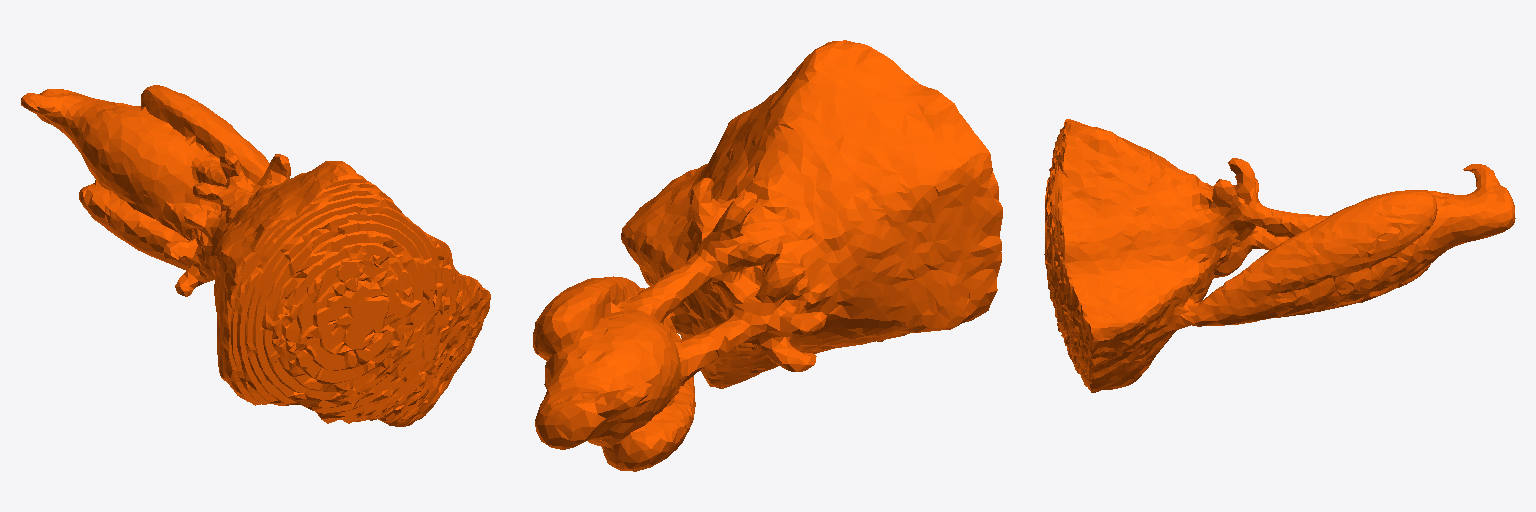
URDF robot description (bald_eagle_carved_out_of_wood_1step):
<?xml version="1.0" ?>
<robot name="bald_eagle_carved_out_of_wood_1step">
   <material name="obj_color">
      <color rgba="1.0 0.423529411765 0.0392156862745 1.0"/>
   </material>
   <link name="top">
      <inertial>
         <origin rpy="5.93201882033328e-05 0.0001924961440968035 0.0002108274034161311" xyz="-0.002842670310482861 -0.02940394149296209 -0.0005354806044661185"/>
         <mass value="0.1524144928068599"/>
         <inertia ixx="0.0001995110134743098" ixy="-8.297269007834973e-08" ixz="8.909617528880188e-06" iyy="5.932049828058125e-05" iyz="-1.990778276169922e-07" izz="0.0002038122239613762"/>
      </inertial>
      <visual>
         <origin rpy="0 0 0" xyz="0 0 0"/>
         <geometry>
            <mesh filename="top_watertight_tiny.stl" scale="1 1 1"/>
         </geometry>
         <material name="obj_color"/>
      </visual>
      <collision>
         <origin rpy="0 0 0" xyz="0 0 0"/>
         <geometry>
            <mesh filename="top_watertight_tiny.obj" scale="1 1 1"/>
         </geometry>
      </collision>
   </link>
   <link name="bottom">
      <inertial>
         <origin rpy="1.633333333199431e-08 1.633333333199431e-08 1.633333333362855e-08" xyz="0.3464080000000008 0.3464080000000008 0.3464080000000008"/>
         <mass value="0.0009800000000000017"/>
         <inertia ixx="1.633333333253906e-08" ixy="5.447480642029219e-19" ixz="5.447480642029219e-19" iyy="1.633333333253906e-08" iyz="5.447480642029219e-19" izz="1.633333333253906e-08"/>
      </inertial>
      <visual>
         <origin rpy="0 0 0" xyz="0 0 0"/>
         <geometry>
            <mesh filename="bottom_watertight_tiny.stl" scale="1 1 1"/>
         </geometry>
         <material name="obj_color"/>
      </visual>
   </link>
   <joint name="rotation" type="revolute">
      <origin xyz="0 0 0"/>
      <axis xyz="0 0 -1"/>
      <parent link="bottom"/>
      <child link="top"/>
      <dynamics damping="1.0" friction="1.0"/>
      <limit effort="0.1" velocity="0.1" lower="0" upper="0.001"/>
   </joint>
</robot>

--- Render facts (derived) ---
The picture shows the robot from 3 angles, left to right: view 1: azimuth 30°, elevation 25°; view 2: azimuth 150°, elevation 25°; view 3: azimuth 270°, elevation 25°; orthographic projection.
Robot: bald_eagle_carved_out_of_wood_1step — 2 links, 1 joints (1 revolute); root link bottom; default pose: every joint at zero.
Links seen in each view (by area): view 1: top; view 2: top; view 3: top.
Link boxes in pixels (bbox=[...]): top: bbox=[21, 85, 490, 426]; top: bbox=[533, 40, 1002, 471]; top: bbox=[1044, 119, 1515, 392].
Size in the robot's own frame: 0.0796 by 0.1382 by 0.0758 metres.
1 mesh visuals loaded from 2 distinct referenced files (1 binary STL); not drawn: 1 (reference not matched to a file when rendering).